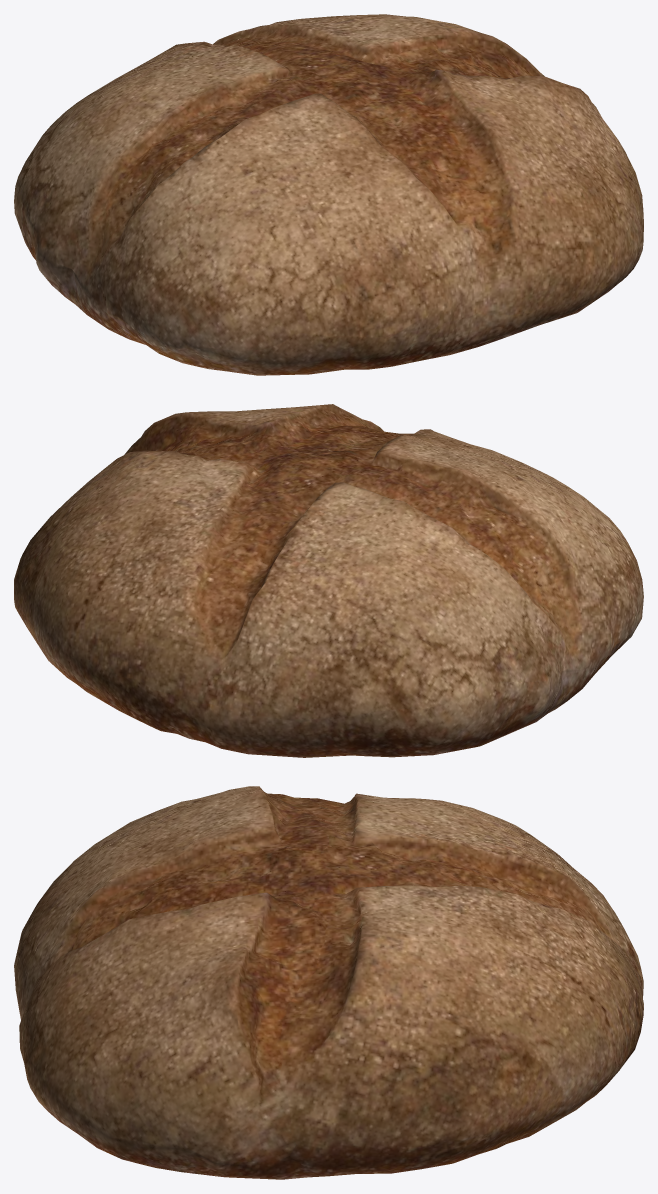
File: bread_a.glb
3 renders of one model, top to bottom at view 1: azimuth 30°, elevation 25°; view 2: azimuth 150°, elevation 25°; view 3: azimuth 270°, elevation 25°, orthographic. The views are drawn at different scales.
Parts seen in each view (by area): view 1: whplfip_LOD0_TIER2_000; view 2: whplfip_LOD0_TIER2_000; view 3: whplfip_LOD0_TIER2_000.
Boxes of the visible parts, x1=… form: whplfip_LOD0_TIER2_000: x1=14, y1=14, x2=643, y2=375; whplfip_LOD0_TIER2_000: x1=14, y1=404, x2=643, y2=757; whplfip_LOD0_TIER2_000: x1=14, y1=786, x2=643, y2=1179.
Bounding box in the file's own units: 0.2107 × 0.079 × 0.2038.
Materials: 1 (1 with a texture image).
